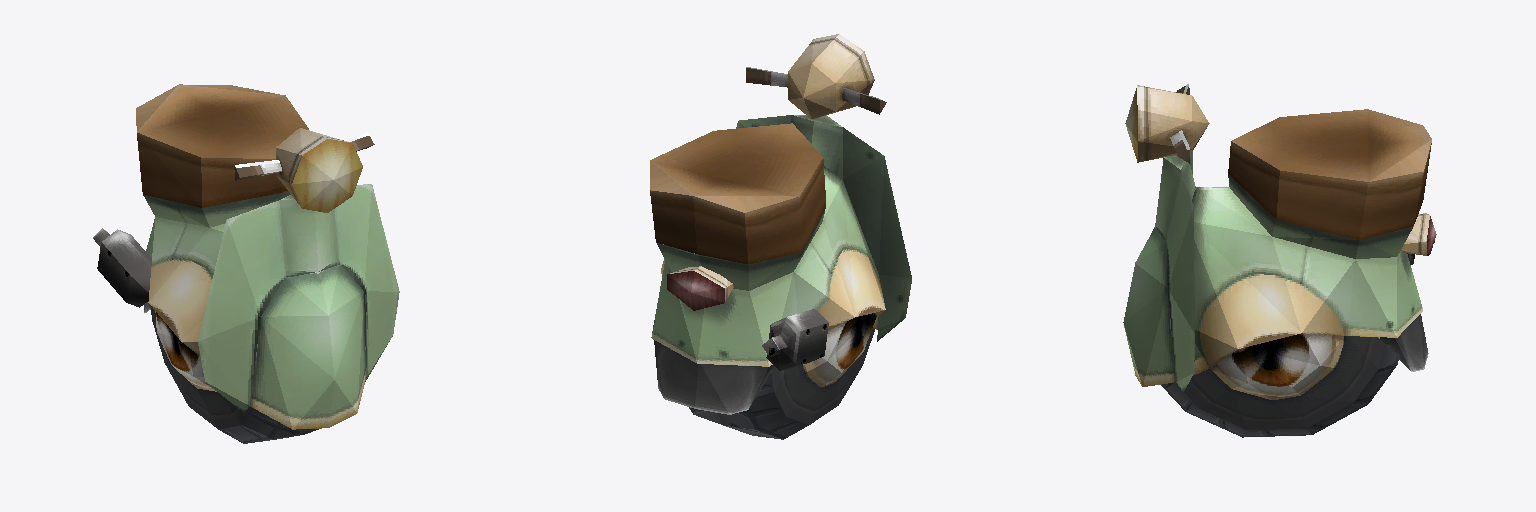
The picture shows the model from 3 angles: view 1: azimuth 30°, elevation 25°; view 2: azimuth 150°, elevation 25°; view 3: azimuth 270°, elevation 25°; orthographic projection.
Size of the model in its own units: 21.49 by 34.41 by 28.77.
5 materials, 5 textured.